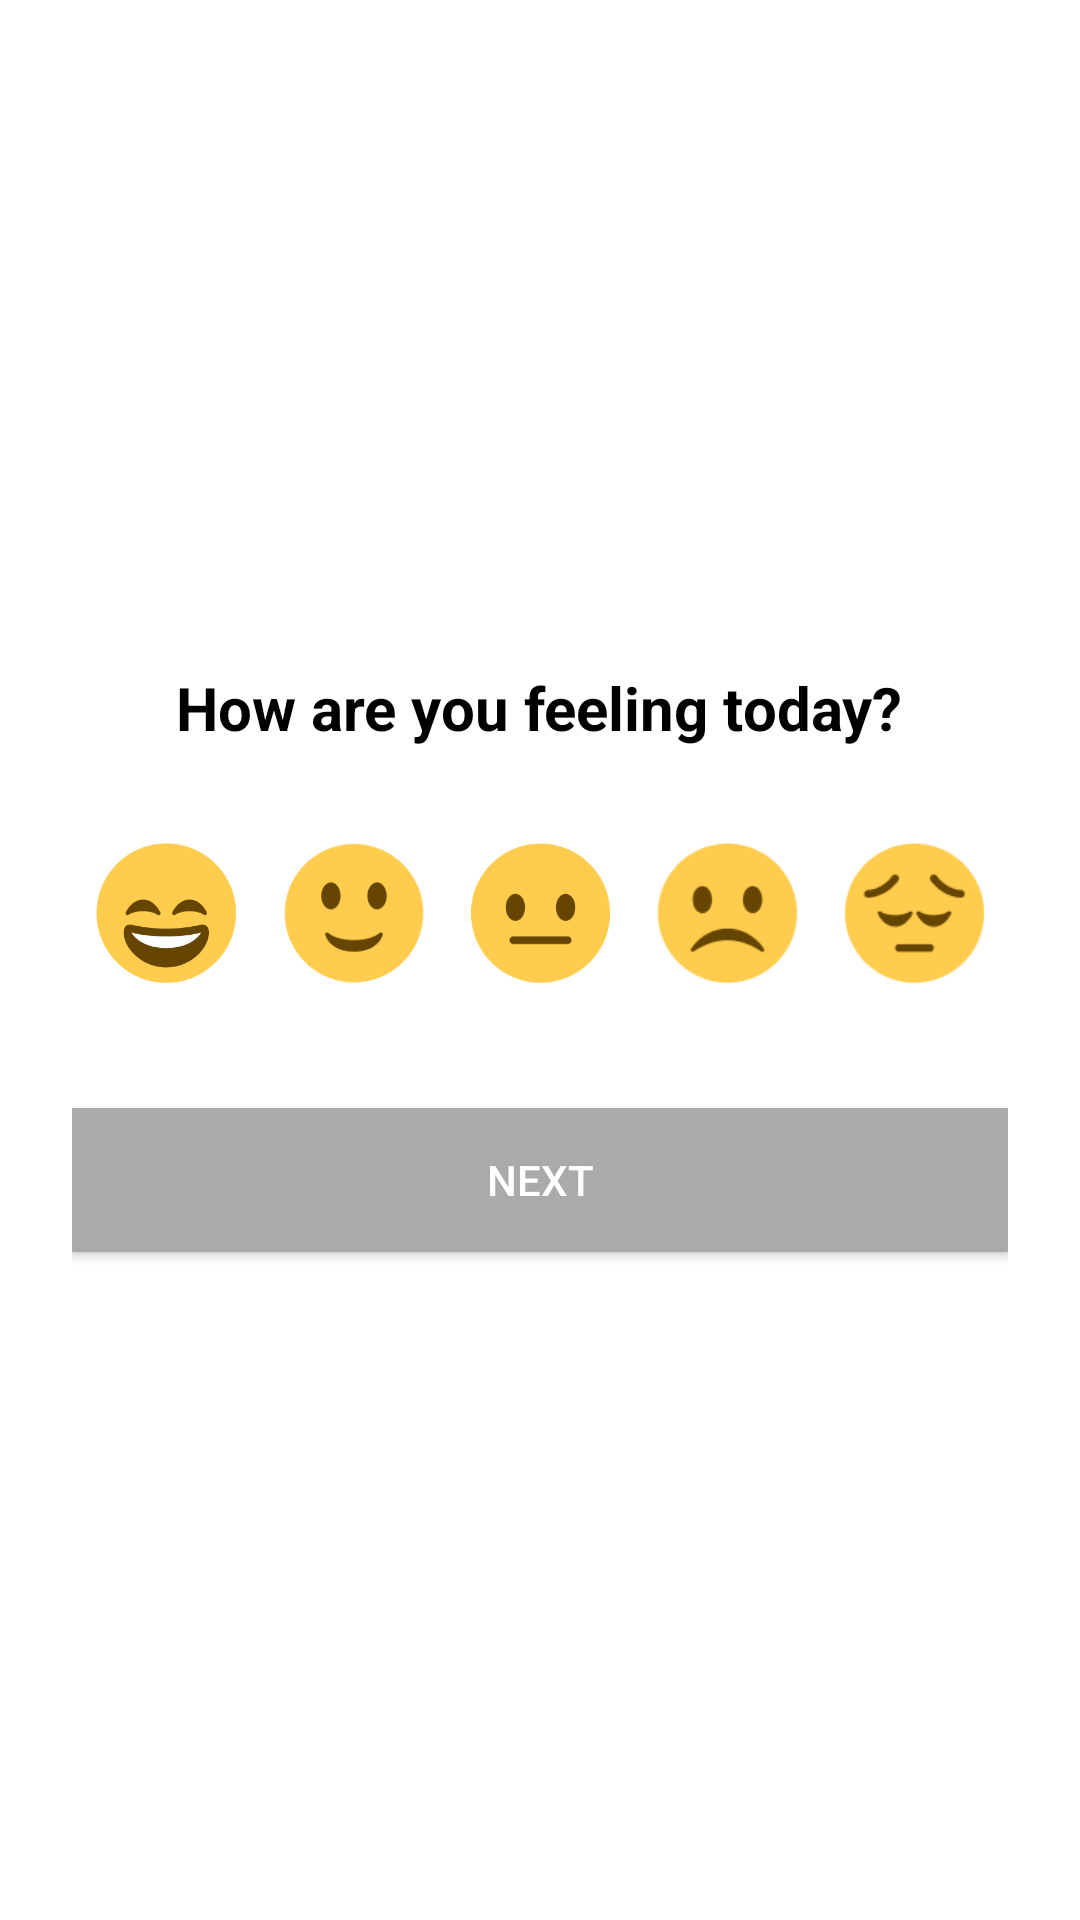

Screen size 1080×1920. Icon name, then its box in pixels as (x1, y1, x2, y2):
Happy: (284, 843, 424, 983)
Neutral: (471, 843, 610, 983)
Sad: (657, 843, 798, 983)
Very Happy: (96, 843, 236, 983)
Very Sad: (844, 843, 985, 983)
